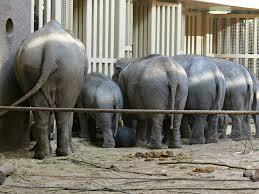elephant: (13, 20, 255, 109), (139, 113, 164, 148), (188, 114, 218, 143), (56, 111, 72, 155), (35, 111, 49, 158), (95, 113, 114, 147), (231, 115, 249, 138), (171, 114, 182, 147)
